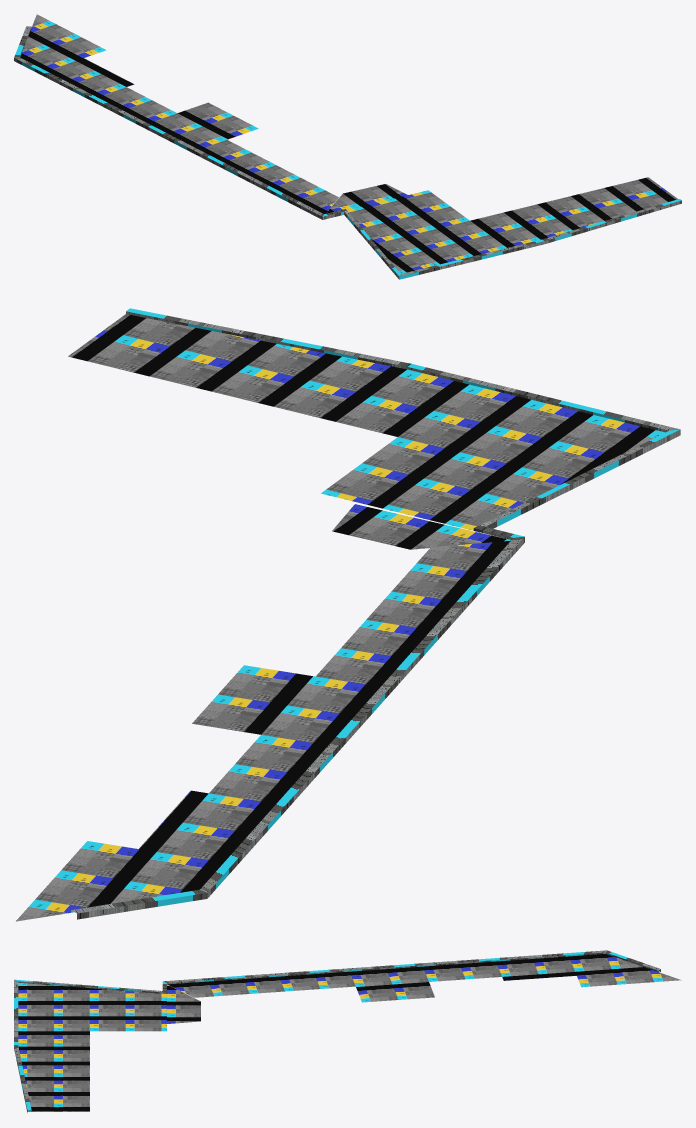
Rendered from chinatown_sidewalk_4.fbx.
3 views of the same model, one above another, from view 1: azimuth 30°, elevation 25°; view 2: azimuth 150°, elevation 25°; view 3: azimuth 270°, elevation 25° (orthographic). The views are drawn at different scales.
Parts seen in each view (by area): view 1: chinatown_curb_4, curb_tiles_2, curb_tiles_1; view 2: chinatown_curb_4, curb_tiles_2, curb_tiles_1; view 3: chinatown_curb_4, curb_tiles_2, curb_tiles_1.
Part boxes in pixels (x1,y1,x2,y2): chinatown_curb_4: [14, 26, 681, 279]; curb_tiles_2: [20, 14, 258, 149]; curb_tiles_1: [199, 140, 407, 213]; chinatown_curb_4: [68, 308, 680, 919]; curb_tiles_2: [16, 665, 379, 921]; curb_tiles_1: [316, 504, 511, 686]; chinatown_curb_4: [14, 950, 660, 1112]; curb_tiles_2: [350, 954, 681, 1002]; curb_tiles_1: [167, 971, 355, 1023].
Size of the model in its own units: 1587 by 13.87 by 2796.
